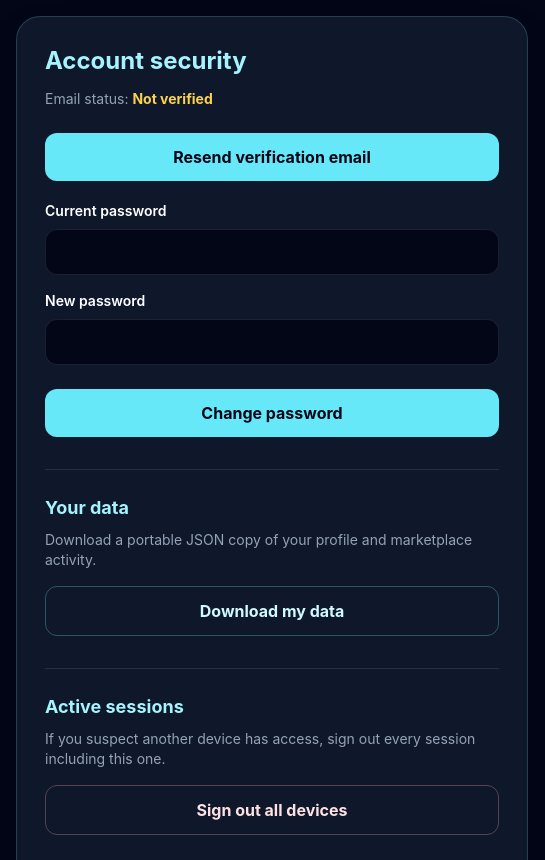
Test: account access pages › revokes all sessions from account security
What coordinates should you click on to do the following:
click the button "Sign out all devices"
I would click on:
 (272, 810)
Its box is [45,785,499,835].
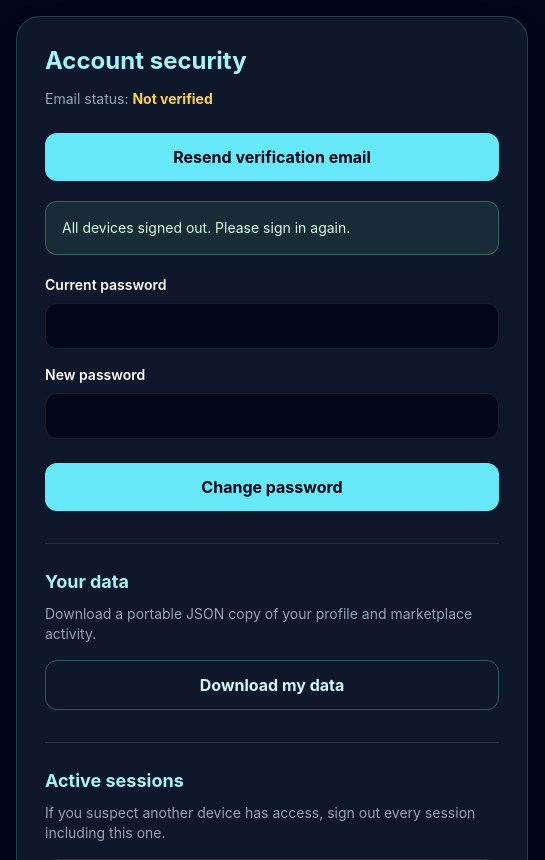
Result: the text "All devices signed out. Please sign in again." is shown at [45,201,499,255]
